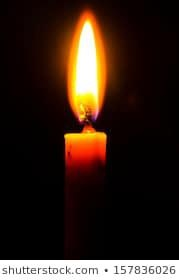fire: (67, 7, 104, 126)
